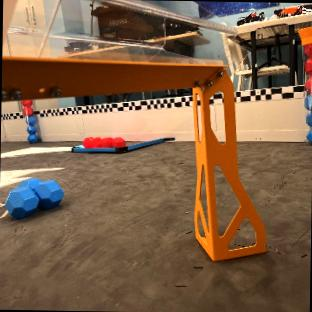Goal: (1, 0, 265, 260)
Parking - B: (72, 137, 174, 152)
V5_BLUE: (5, 179, 62, 218)
V5_RED: (82, 136, 125, 148)
